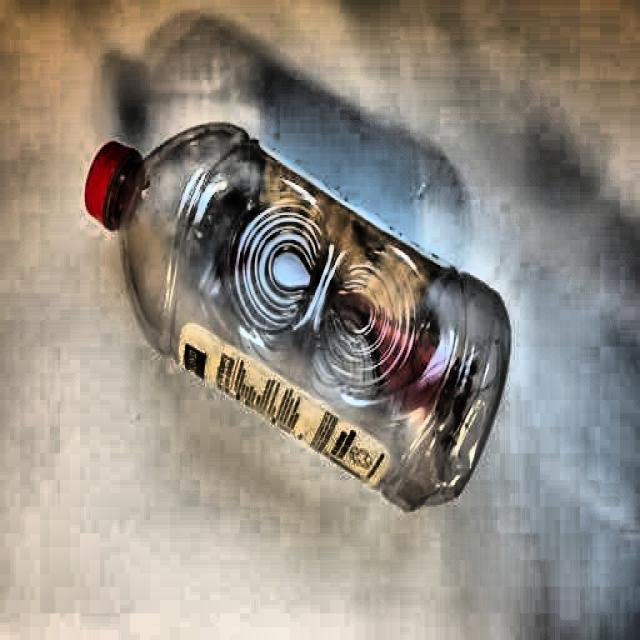plastic: (84, 125, 512, 520)
